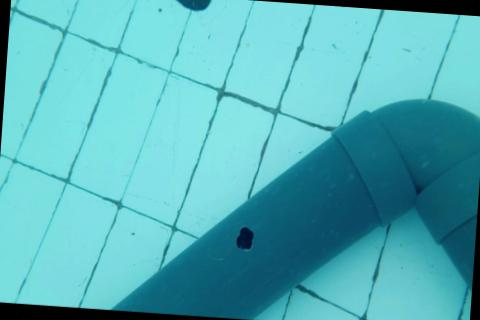kebocoran: (234, 225, 255, 252)
